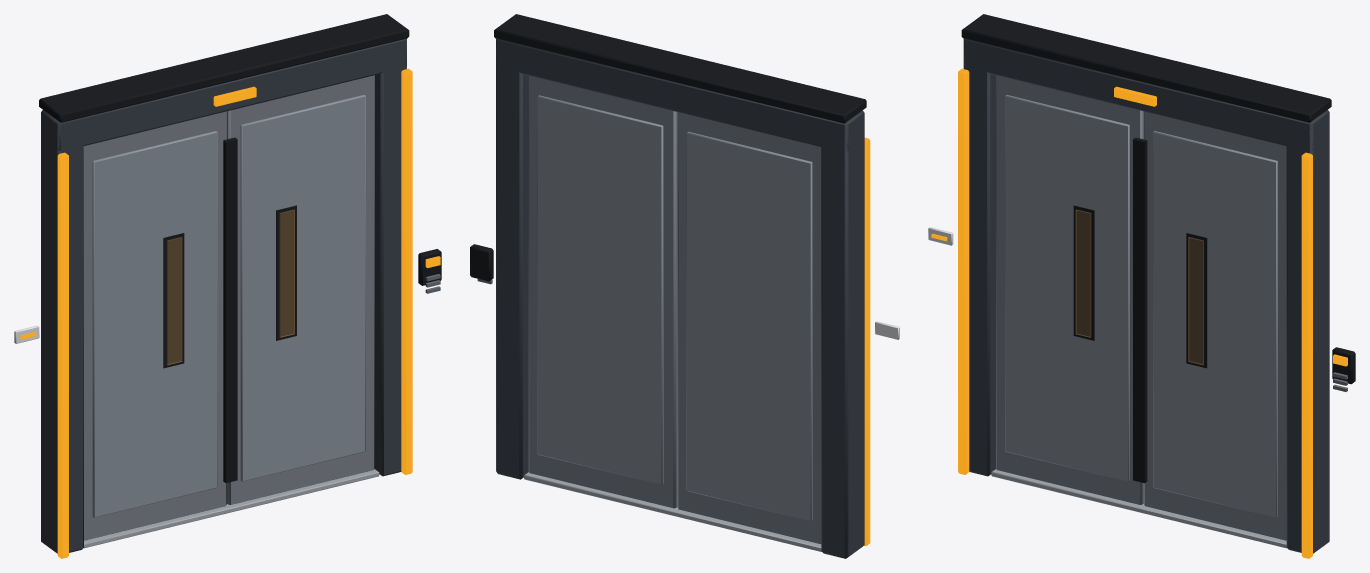
The model's file is door_cabin.glb.
The picture shows the model from 3 angles, left to right: view 1: azimuth 30°, elevation 25°; view 2: azimuth 150°, elevation 25°; view 3: azimuth 330°, elevation 25°; orthographic projection.
Parts seen in each view (by area): view 1: leaf_l, body, leaf_r; view 2: leaf_r, body, leaf_l; view 3: leaf_r, body, leaf_l.
Part boxes in pixels (x1=…): leaf_l: x1=84, y1=111, x2=231, y2=540; body: x1=14, y1=14, x2=441, y2=558; leaf_r: x1=226, y1=75, x2=374, y2=504; leaf_r: x1=528, y1=76, x2=677, y2=508; body: x1=470, y1=14, x2=899, y2=558; leaf_l: x1=677, y1=112, x2=821, y2=543; leaf_r: x1=1139, y1=111, x2=1286, y2=540; body: x1=928, y1=14, x2=1355, y2=558; leaf_l: x1=996, y1=75, x2=1143, y2=504.
Size of the model in its own units: 2.87 by 2.86 by 0.285.
